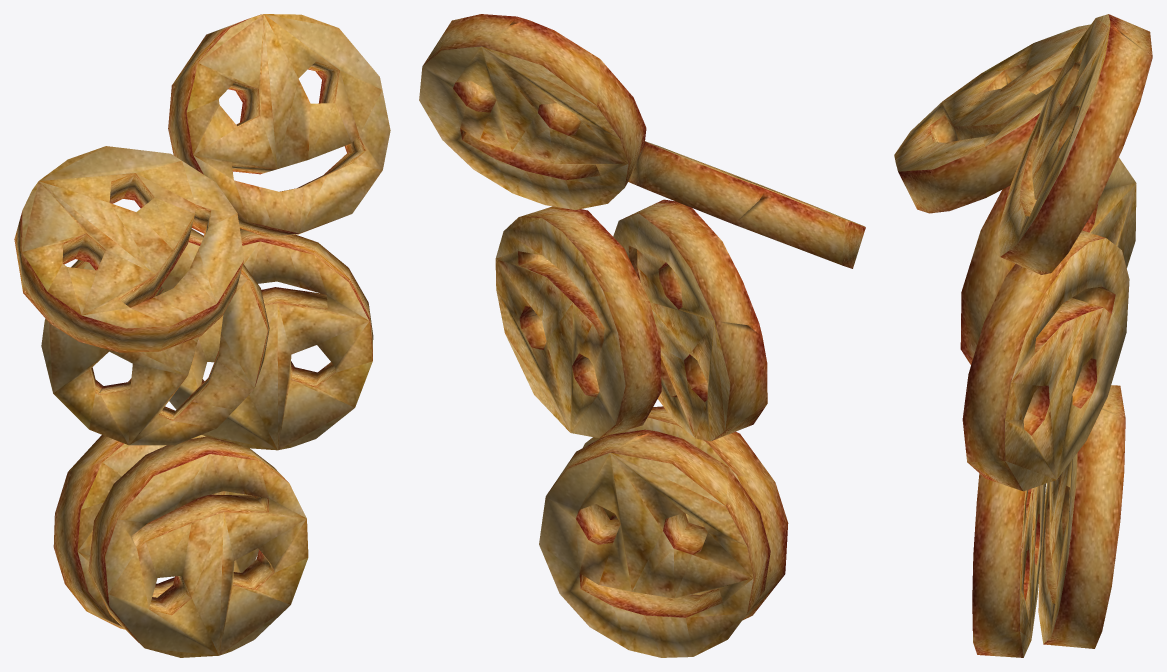
The model's file is SmileyFriesInHolder.fbx.
3 renders of one model, left to right at view 1: azimuth 30°, elevation 25°; view 2: azimuth 150°, elevation 25°; view 3: azimuth 270°, elevation 25°, orthographic. The views are drawn at different scales.
Visible parts, largest first — view 1: SmileyFriesInHolder; view 2: SmileyFriesInHolder; view 3: SmileyFriesInHolder.
Boxes of the visible parts, <box> form: SmileyFriesInHolder: <box>14,14,390,657</box>; SmileyFriesInHolder: <box>419,14,865,657</box>; SmileyFriesInHolder: <box>894,14,1152,657</box>.
Bounding box in the file's own units: 16.45 × 24.35 × 8.44.
